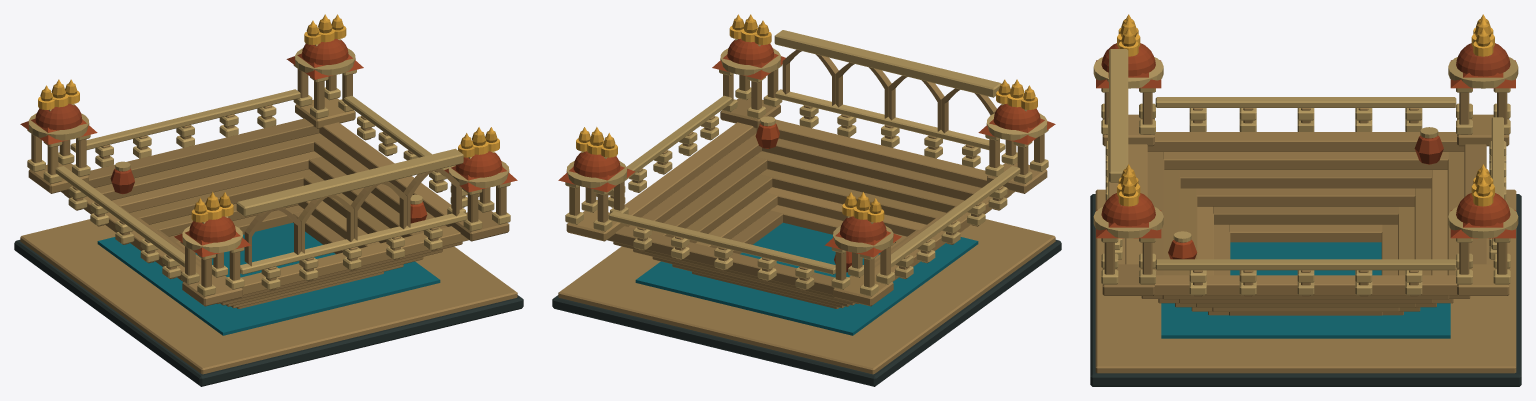
The picture shows the model from 3 angles, left to right: view 1: azimuth 30°, elevation 25°; view 2: azimuth 150°, elevation 25°; view 3: azimuth 270°, elevation 25°; orthographic projection. The views are drawn at different scales.
Visible parts, largest first — view 1: stepwell_level2_structure, stepwell_level2_metal; view 2: stepwell_level2_structure, stepwell_level2_metal; view 3: stepwell_level2_structure, stepwell_level2_metal.
Boxes of the visible parts, x1,y1,x2,y2 form: stepwell_level2_structure: [14, 18, 523, 386]; stepwell_level2_metal: [38, 14, 499, 222]; stepwell_level2_structure: [552, 18, 1061, 386]; stepwell_level2_metal: [576, 14, 1037, 222]; stepwell_level2_structure: [1090, 19, 1521, 386]; stepwell_level2_metal: [1117, 14, 1494, 206].
Size of the model in its own units: 5.6 by 2.93 by 5.6.
